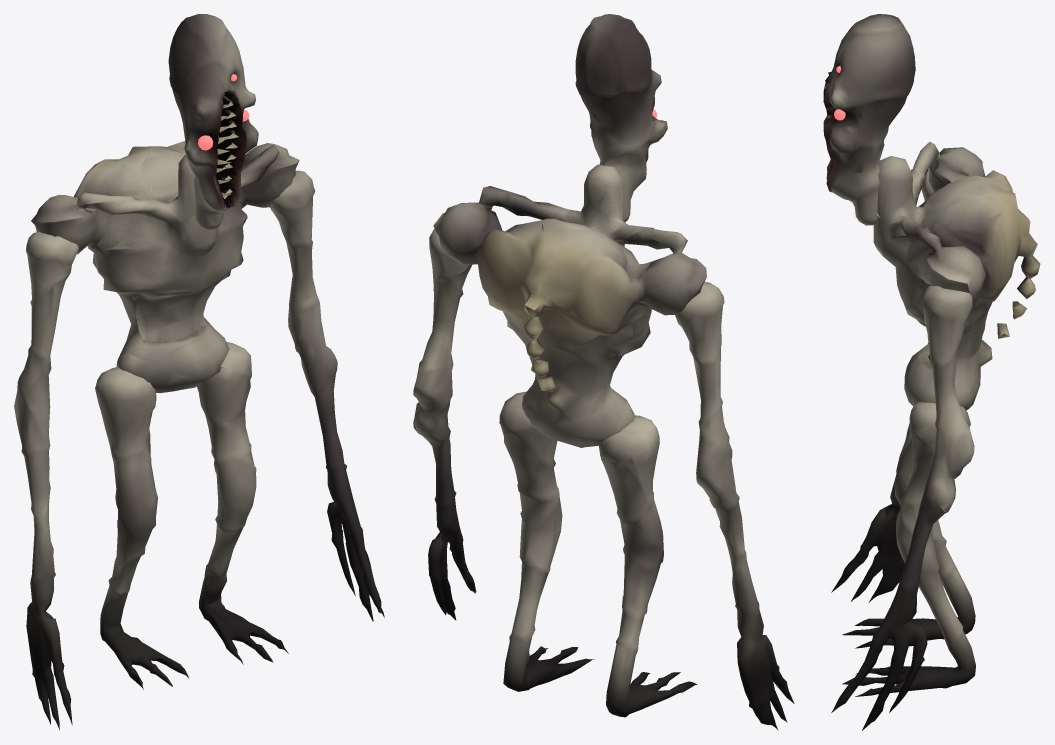
File: Monstruo_R6.fbx
The picture shows the model from 3 angles, left to right: view 1: azimuth 30°, elevation 25°; view 2: azimuth 150°, elevation 25°; view 3: azimuth 270°, elevation 25°; orthographic projection. The views are drawn at different scales.
Parts seen in each view (by area): view 1: Torso, Right Arm, Head, Left Arm, Right Leg, Left Leg; view 2: Torso, Right Arm, Right Leg, Head, Left Leg, Left Arm; view 3: Torso, Left Arm, Head, Left Leg, Right Leg, Right Arm.
Boxes of the visible parts, left/top/right/bottom form: Torso: left=31, top=141, right=299, bottom=393; Right Arm: left=14, top=231, right=78, bottom=730; Head: left=168, top=14, right=258, bottom=229; Left Arm: left=270, top=170, right=384, bottom=621; Right Leg: left=95, top=367, right=189, bottom=689; Left Leg: left=197, top=341, right=288, bottom=664; Torso: left=433, top=164, right=706, bottom=447; Right Arm: left=675, top=282, right=794, bottom=730; Right Leg: left=599, top=415, right=697, bottom=717; Head: left=575, top=14, right=667, bottom=222; Left Leg: left=499, top=391, right=594, bottom=691; Left Arm: left=413, top=229, right=476, bottom=620; Torso: left=873, top=142, right=1040, bottom=410; Left Arm: left=831, top=286, right=974, bottom=730; Head: left=823, top=14, right=915, bottom=225; Left Leg: left=842, top=402, right=975, bottom=696; Right Leg: left=842, top=434, right=975, bottom=648; Right Arm: left=831, top=169, right=933, bottom=602.
Size of the model in its own units: 0.95 by 1.85 by 0.5478.
7 materials, 6 textured.
